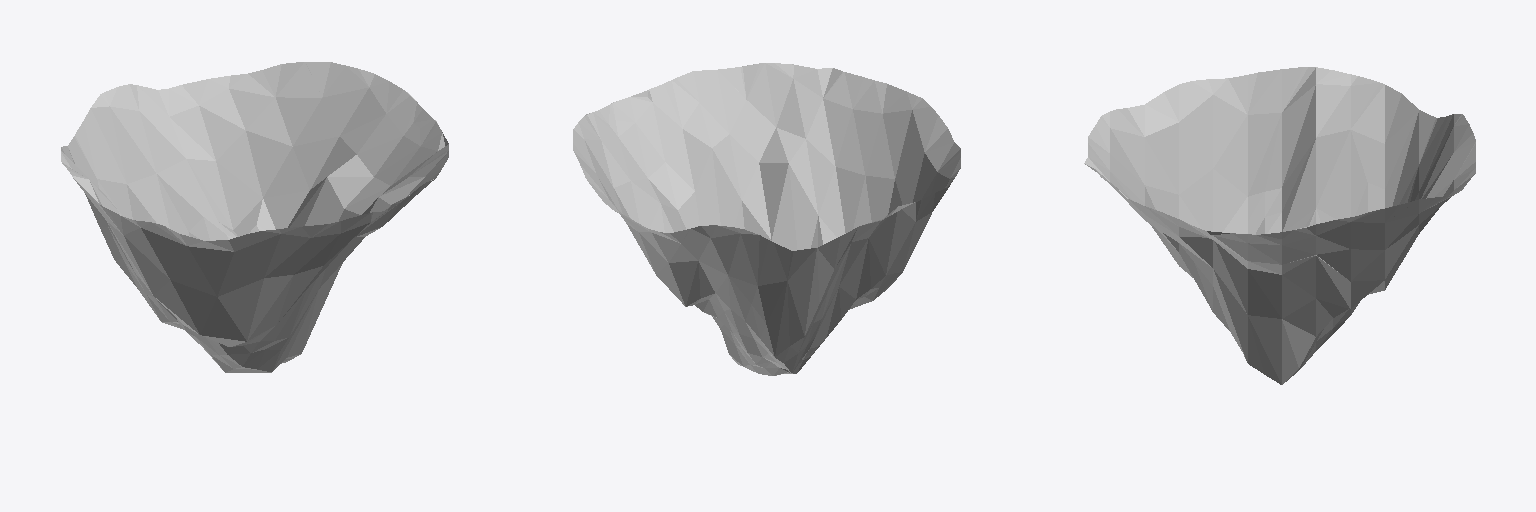
The model's file is island_body.obj.
3 renders of one model, left to right at view 1: azimuth 30°, elevation 25°; view 2: azimuth 150°, elevation 25°; view 3: azimuth 270°, elevation 25°, orthographic.
Visible parts, largest first — view 1: Mesh1 Model; view 2: Mesh1 Model; view 3: Mesh1 Model.
Part boxes in pixels (x1,y1,x2,y2): Mesh1 Model: (61, 62, 448, 372); Mesh1 Model: (573, 63, 960, 375); Mesh1 Model: (1084, 67, 1475, 384).
Bounding box in the file's own units: 33.94 × 22.62 × 34.28.